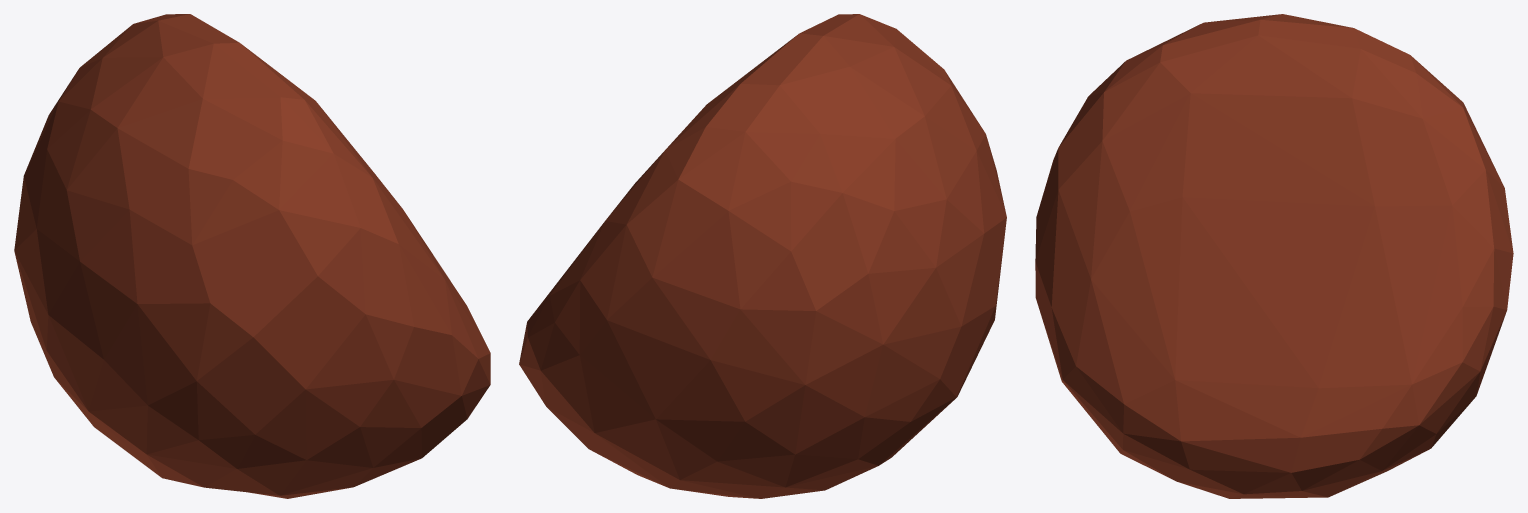
File: agate piece 2.glb
The picture shows the model from 3 angles, left to right: view 1: azimuth 30°, elevation 25°; view 2: azimuth 150°, elevation 25°; view 3: azimuth 270°, elevation 25°; orthographic projection. The views are drawn at different scales.
Parts seen in each view (by area): view 1: Cube; view 2: Cube; view 3: Cube.
Part boxes in pixels (x1=…): Cube: x1=14, y1=14, x2=490, y2=498; Cube: x1=519, y1=14, x2=1006, y2=498; Cube: x1=1035, y1=14, x2=1513, y2=498.
Size of the model in its own units: 0.0208 by 0.0226 by 0.0231.
